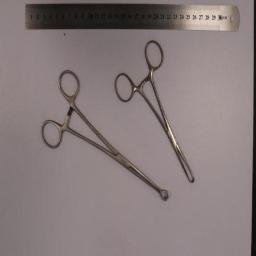Allis Tissue Forceps: (114, 38, 194, 184)
